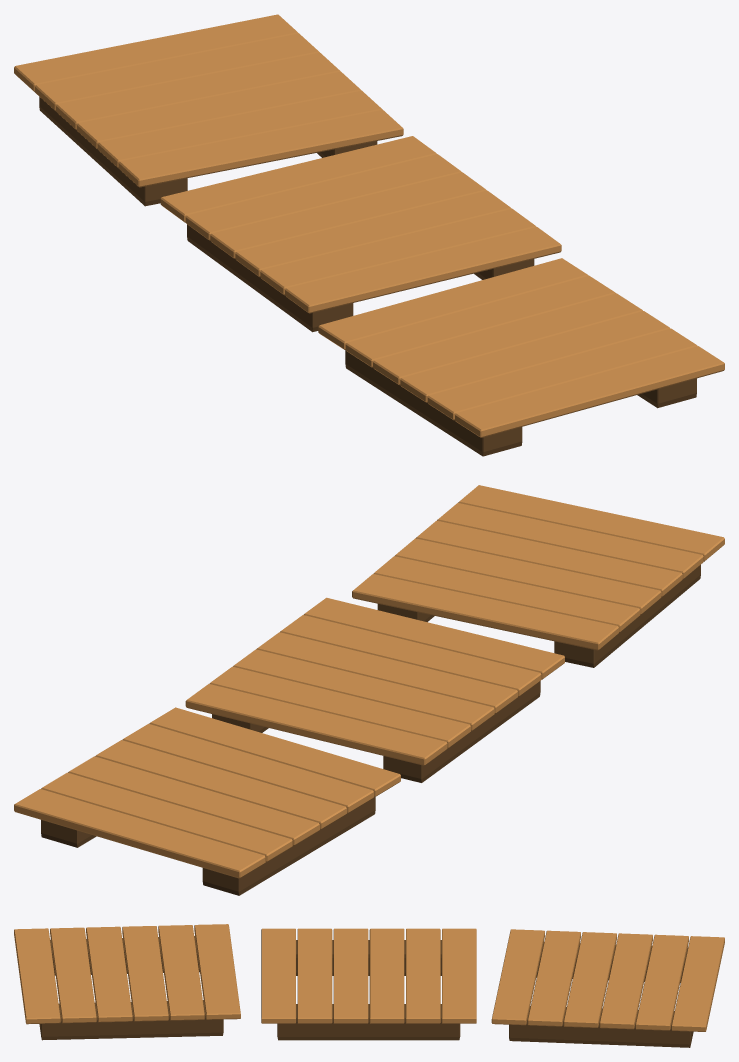
File: pallets.fbx
3 views of the same model, one above another, from view 1: azimuth 30°, elevation 25°; view 2: azimuth 150°, elevation 25°; view 3: azimuth 270°, elevation 25° (orthographic). The views are drawn at different scales.
Visible parts, largest first — view 1: Плоскость.001; view 2: Плоскость.001; view 3: Плоскость.001.
Part boxes in pixels (x1=…): Плоскость.001: x1=14, y1=14, x2=724, y2=456; Плоскость.001: x1=14, y1=485, x2=724, y2=895; Плоскость.001: x1=14, y1=924, x2=724, y2=1047.
Size of the model in its own units: 264 by 33.71 by 773.
